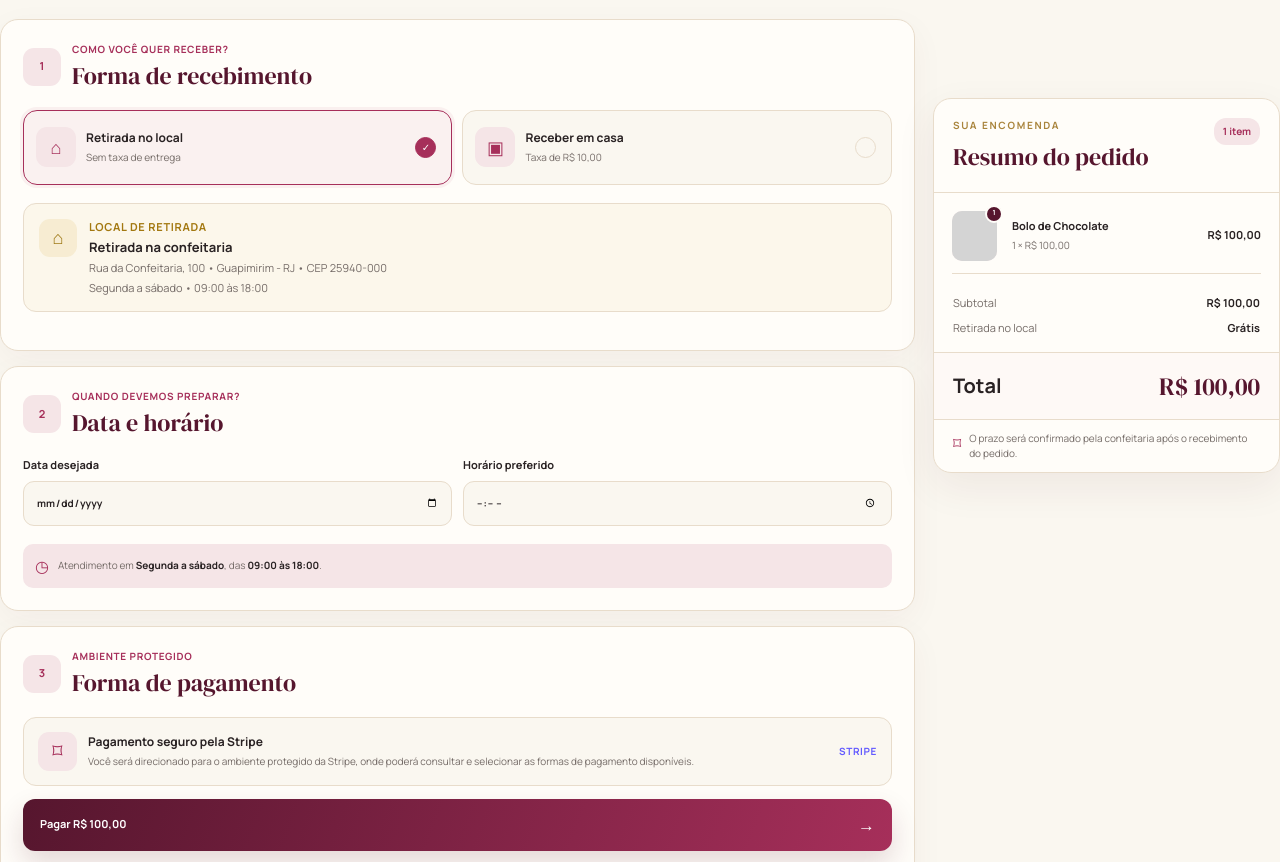
Test: Payment - validações › exige a data desejada
The width and height of the screenshot is (1280, 862).
(page scrolled)
Click the button "Pagar R$ 100,00 →": click(83, 824) [23,799,892,851]
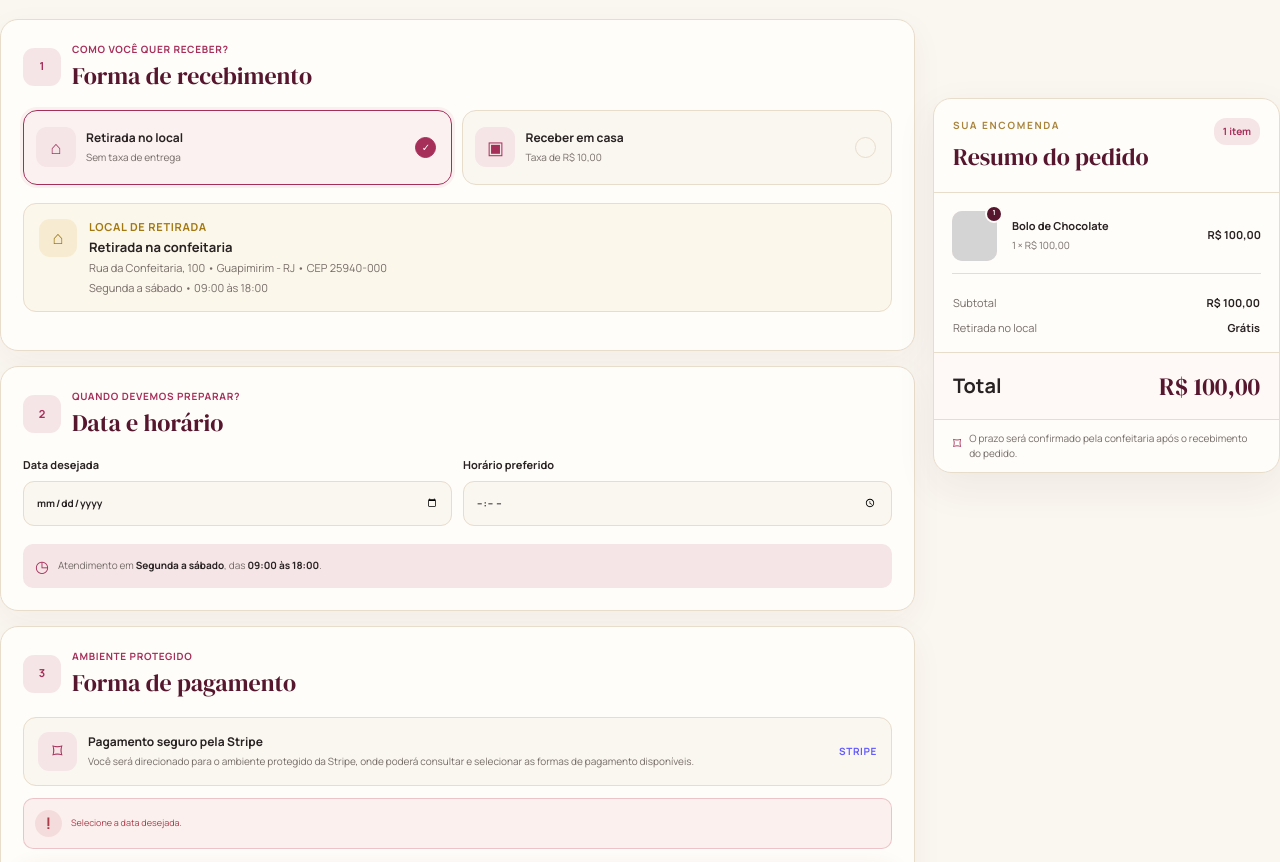
Now the message shows "Selecione a data desejada.", box [71,816,182,829]
